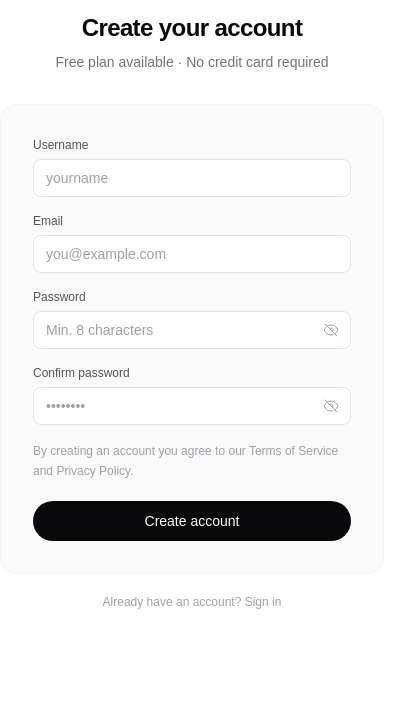
RegisterForm › successful registration › shows the success banner after the API responds
The image size is (401, 716).
Type "testuser" into the field labelled "Username" at (192, 178), box [33,159,351,197]
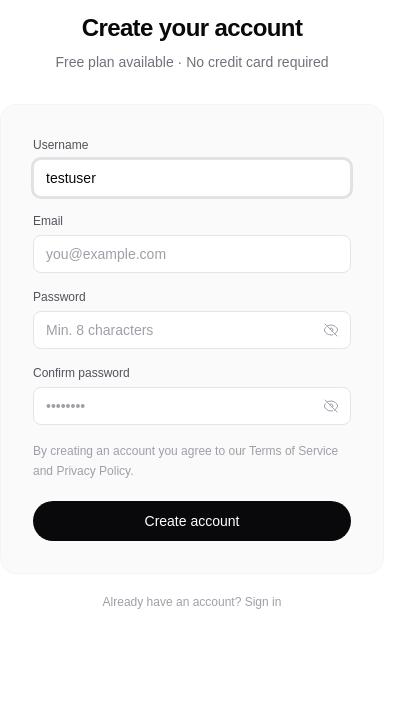
Type "test@example.com" into the field labelled "Email" at (192, 254), box [33,235,351,273]
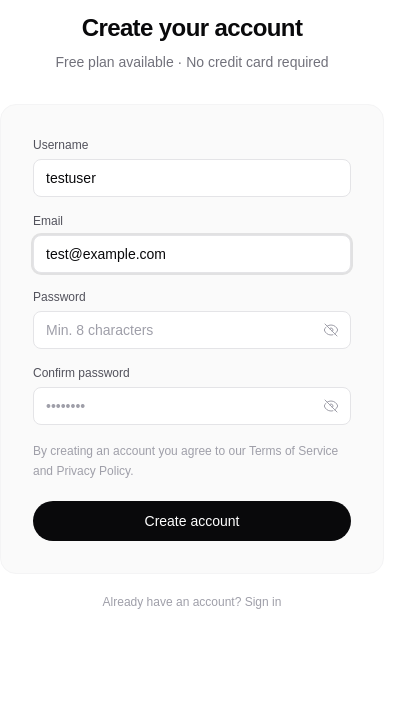
Type "password123" into the password field labelled "Password" at (192, 330), box [33,311,351,349]
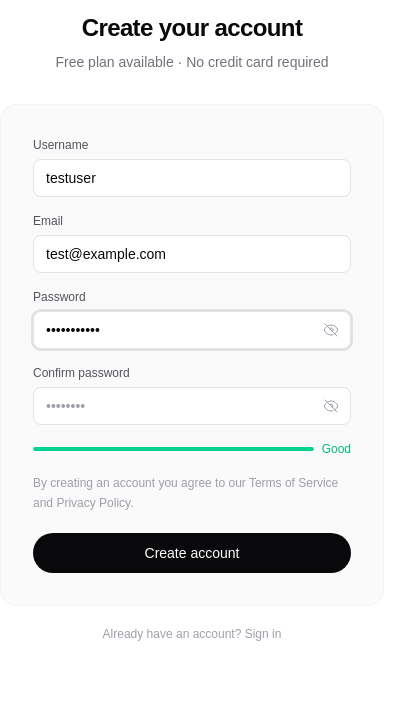
Type "password123" into the password field labelled "Confirm password" at (192, 406), box [33,387,351,425]
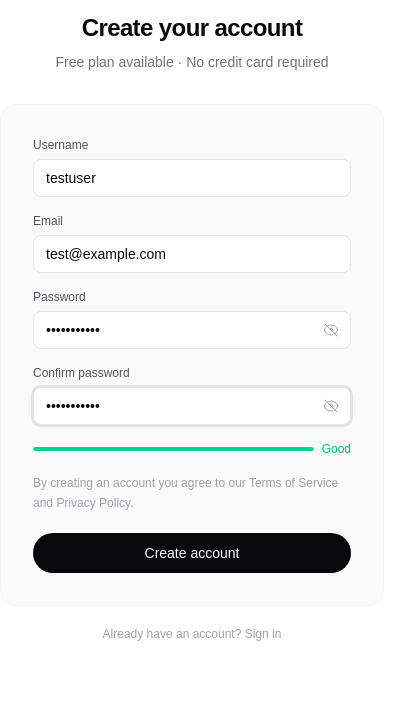
Click the button "Create account" at (192, 553), box [33,533,351,573]
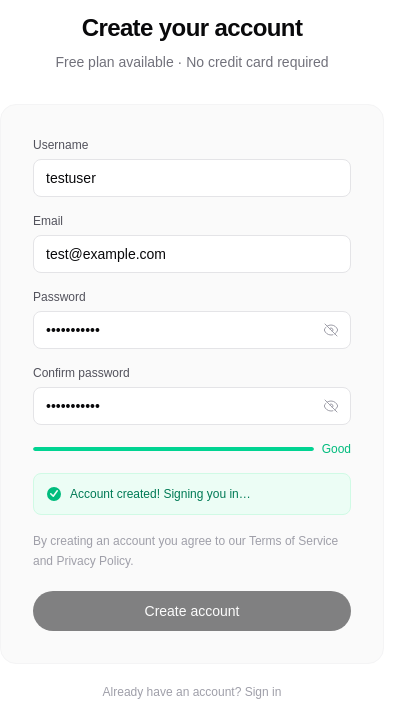
Result: the text "Account created! Signing you in…" is shown at [70,484,251,504]
